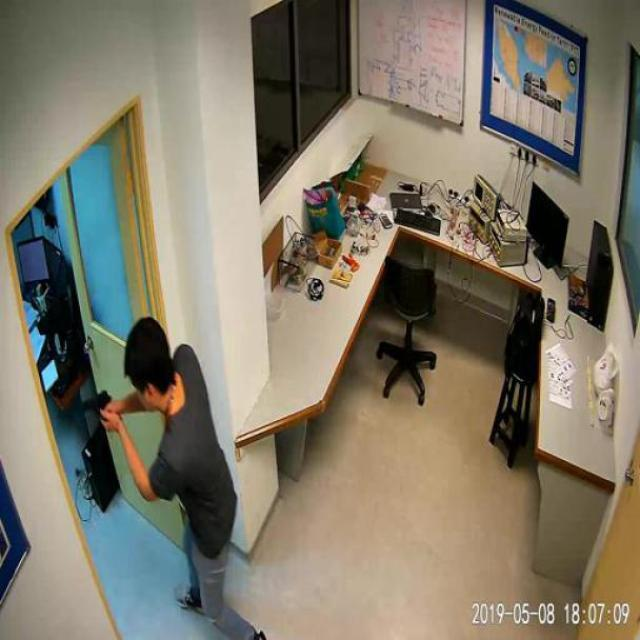Gun: (75, 380, 121, 436)
